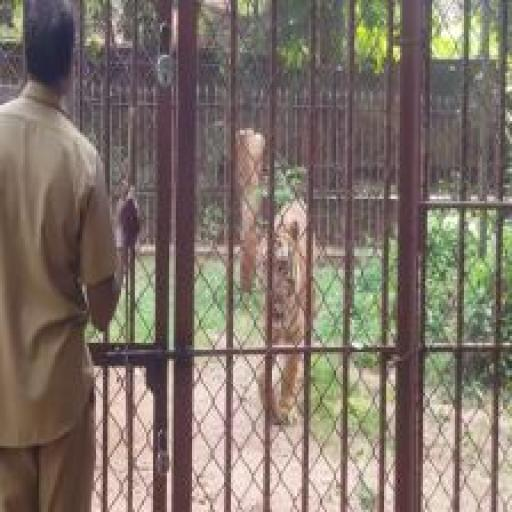Tiger: (260, 208, 319, 426)
